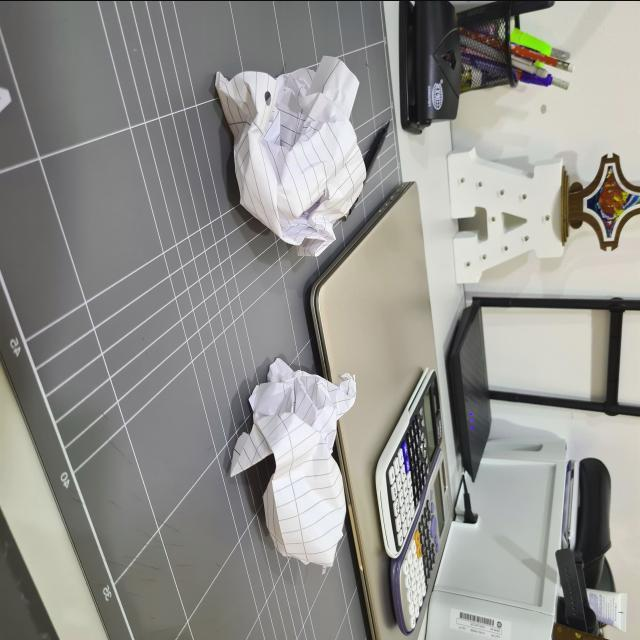Paper: (169, 0, 385, 280), (190, 325, 362, 564)
